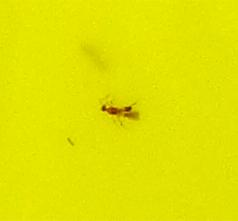Hymenoptera: (100, 100, 138, 121)
